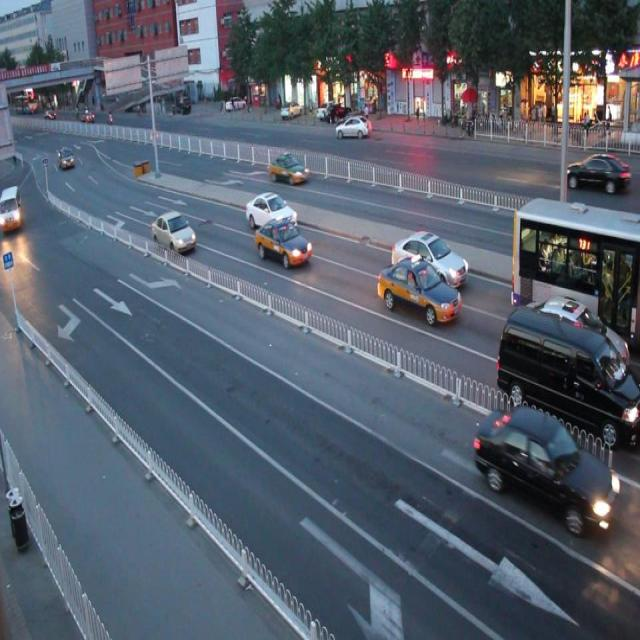car: (473, 404, 618, 535), (518, 295, 628, 391), (376, 256, 461, 328), (391, 228, 468, 286), (255, 219, 312, 267), (564, 152, 628, 192), (245, 191, 298, 229), (153, 210, 195, 253), (269, 150, 308, 185)
truck: (496, 300, 640, 446)
van: (510, 193, 640, 350)
